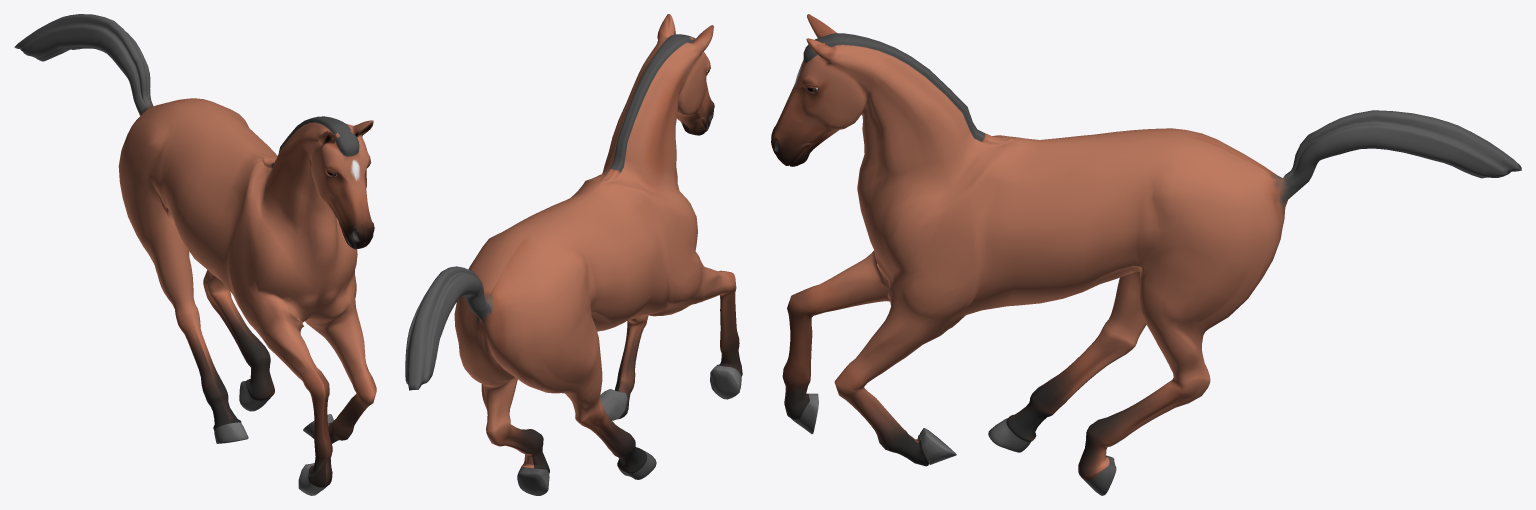
The model's file is horse_obj_18.obj.
The picture shows the model from 3 angles, left to right: view 1: azimuth 30°, elevation 25°; view 2: azimuth 150°, elevation 25°; view 3: azimuth 270°, elevation 25°; orthographic projection. The views are drawn at different scales.
Visible parts, largest first — view 1: Figure_1; view 2: Figure_1; view 3: Figure_1.
Boxes of the visible parts, left/top/right/bottom form: Figure_1: left=14, top=14, right=376, bottom=495; Figure_1: left=405, top=14, right=742, bottom=495; Figure_1: left=771, top=14, right=1521, bottom=495.
Bounding box in the file's own units: 0.2421 × 0.7827 × 1.18.
Materials: 7 (7 with a texture image).
